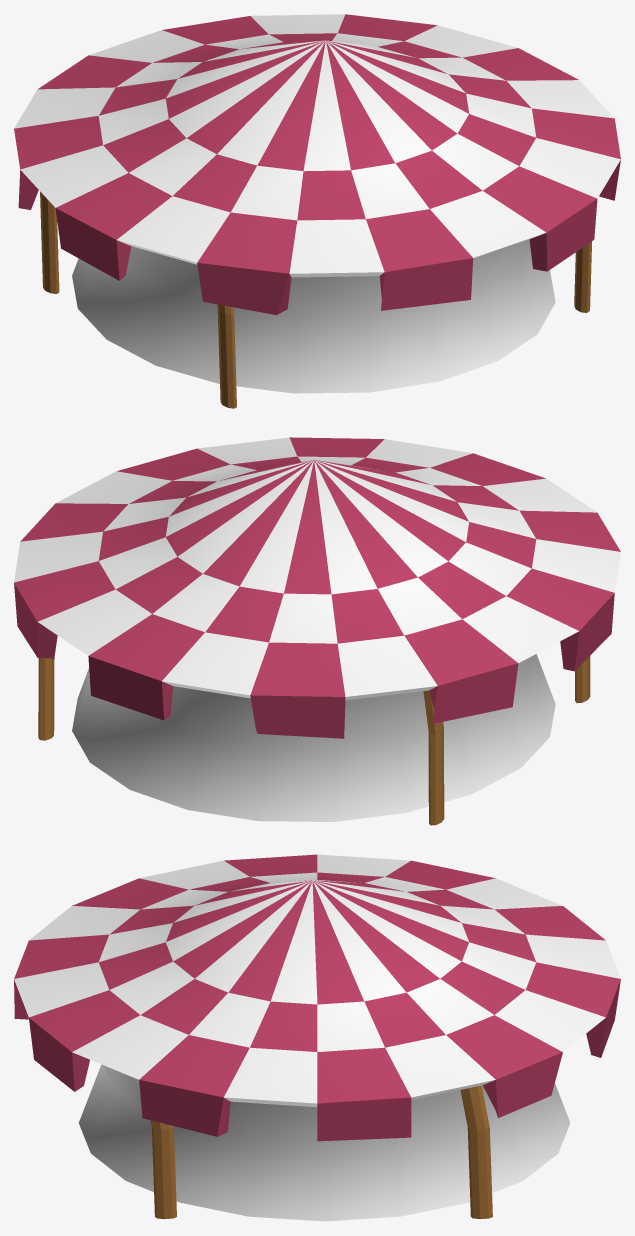
File: tent.fbx
3 views of the same model, one above another, from view 1: azimuth 30°, elevation 25°; view 2: azimuth 150°, elevation 25°; view 3: azimuth 270°, elevation 25° (orthographic). The views are drawn at different scales.
Parts seen in each view (by area): view 1: tent; view 2: tent; view 3: tent.
Boxes of the visible parts, bbox=[...] form: tent: bbox=[14, 14, 620, 408]; tent: bbox=[14, 437, 620, 825]; tent: bbox=[14, 854, 620, 1221].
Size of the model in its own units: 31.88 by 14.97 by 32.83.
